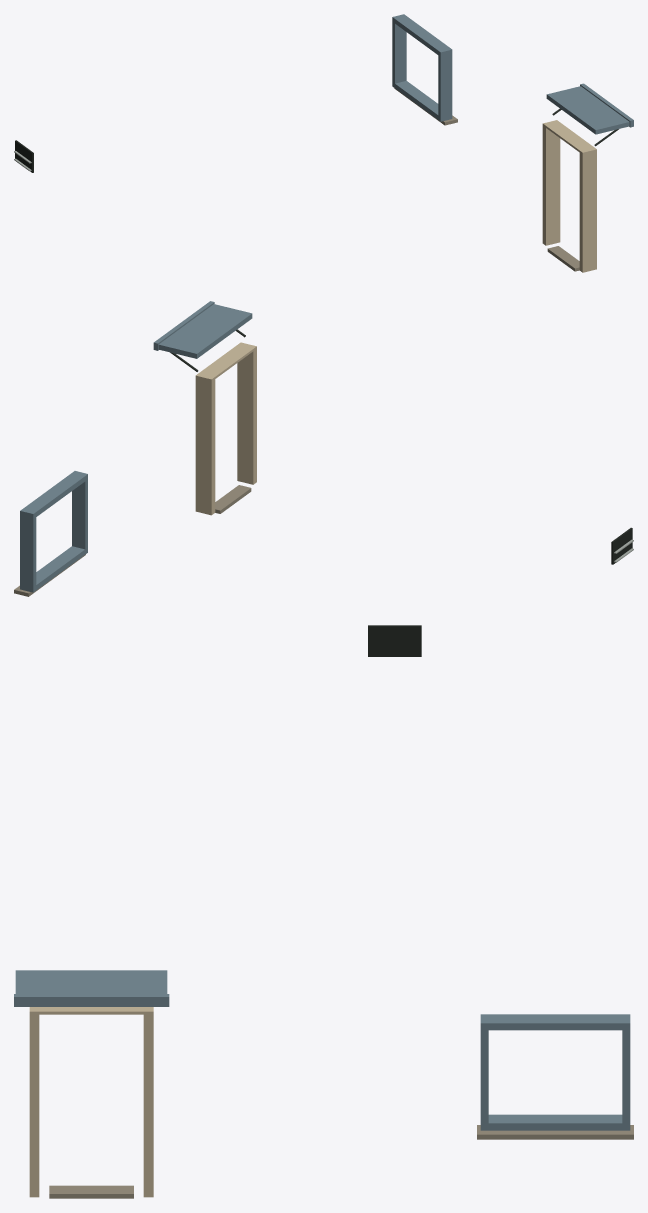
File: SM_Homes_H04_Fixtures_LOD2.fbx
The picture shows the model from 3 angles, top to bottom: view 1: azimuth 30°, elevation 25°; view 2: azimuth 150°, elevation 25°; view 3: azimuth 270°, elevation 25°; orthographic projection. The views are drawn at different scales.
Parts seen in each view (by area): view 1: SM_Homes_H04_Fixtures_LOD2; view 2: SM_Homes_H04_Fixtures_LOD2; view 3: SM_Homes_H04_Fixtures_LOD2.
Part boxes in pixels (x1,y1,x2,y2): SM_Homes_H04_Fixtures_LOD2: (14,14,633,272); SM_Homes_H04_Fixtures_LOD2: (14,301,633,596); SM_Homes_H04_Fixtures_LOD2: (14,625,633,1198).
Size of the model in its own units: 9.81 by 6.95 by 2.88.
